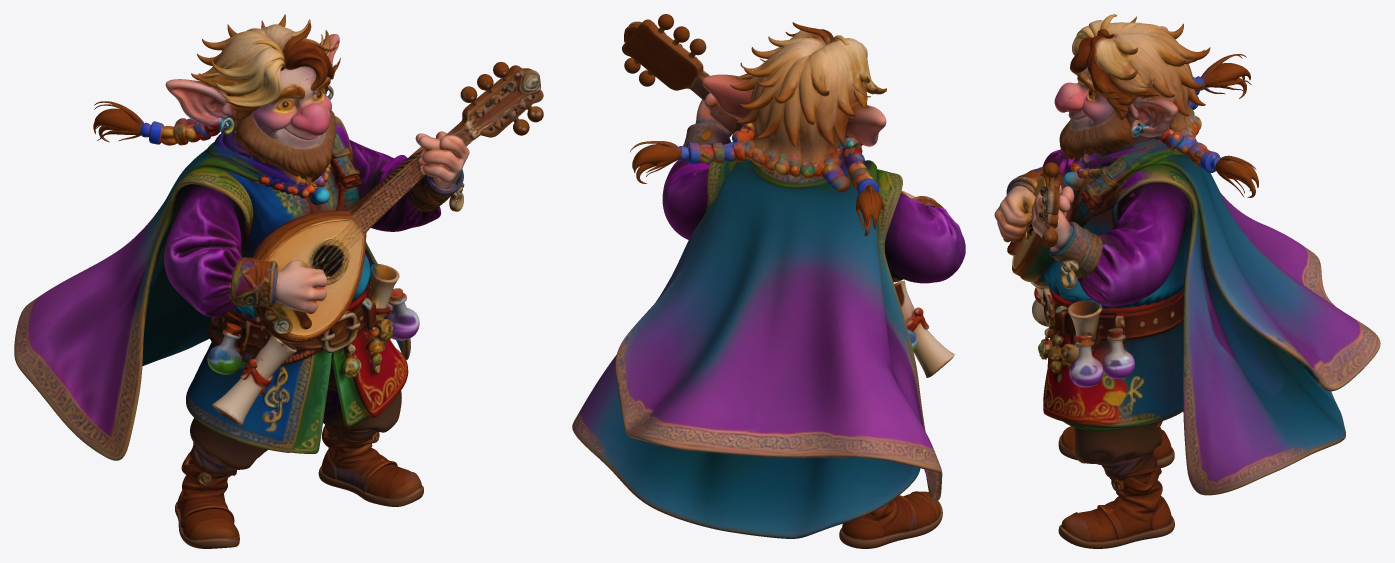
The model's file is gnome_bard_full_male_01.glb.
3 renders of one model, left to right at view 1: azimuth 30°, elevation 25°; view 2: azimuth 150°, elevation 25°; view 3: azimuth 270°, elevation 25°, orthographic. The views are drawn at different scales.
Visible parts, largest first — view 1: material; view 2: material; view 3: material.
Boxes of the visible parts, left/top/right/bottom form: material: left=14, top=14, right=543, bottom=548; material: left=572, top=14, right=965, bottom=548; material: left=994, top=14, right=1380, bottom=548.
Bounding box in the file's own units: 0.8753 × 0.9633 × 0.7158.
1 material, 1 textured.
